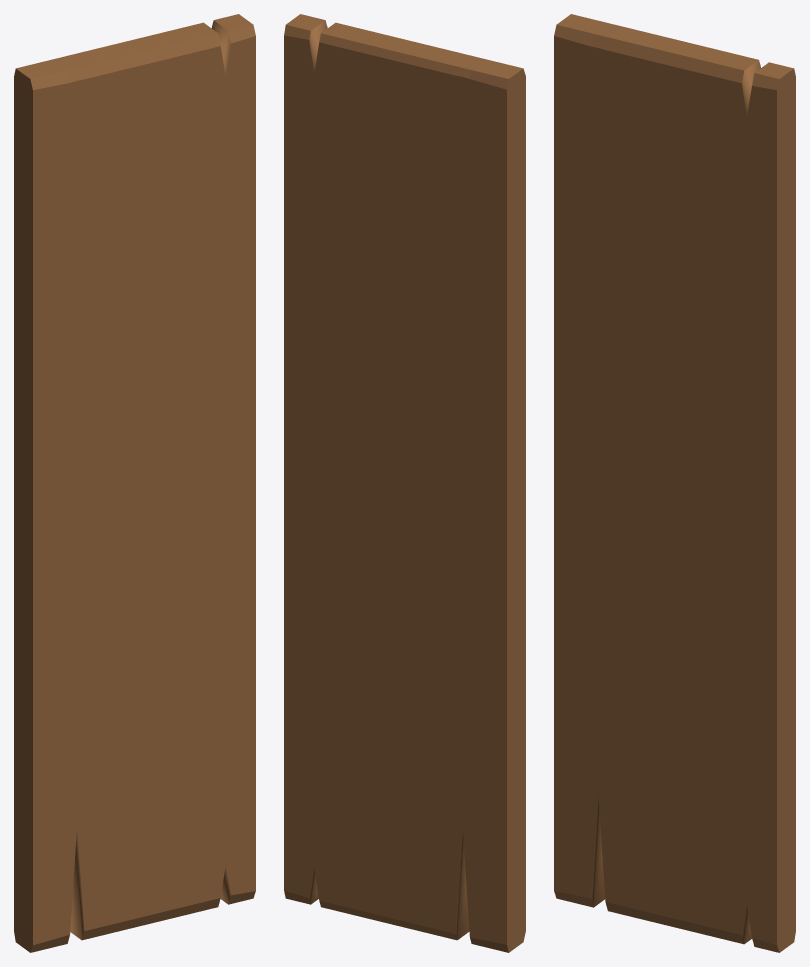
File: WoodenPlate.fbx
The picture shows the model from 3 angles, left to right: view 1: azimuth 30°, elevation 25°; view 2: azimuth 150°, elevation 25°; view 3: azimuth 330°, elevation 25°; orthographic projection.
Parts seen in each view (by area): view 1: WoodenPlate; view 2: WoodenPlate; view 3: WoodenPlate.
Boxes of the visible parts, left/top/right/bottom form: WoodenPlate: left=14, top=14, right=255, bottom=952; WoodenPlate: left=284, top=14, right=525, bottom=952; WoodenPlate: left=554, top=14, right=795, bottom=952.
Size of the model in its own units: 41.44 by 155 by 6.07.
